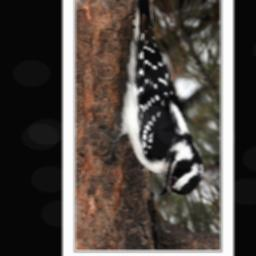Woodpecker: (105, 0, 204, 195)
